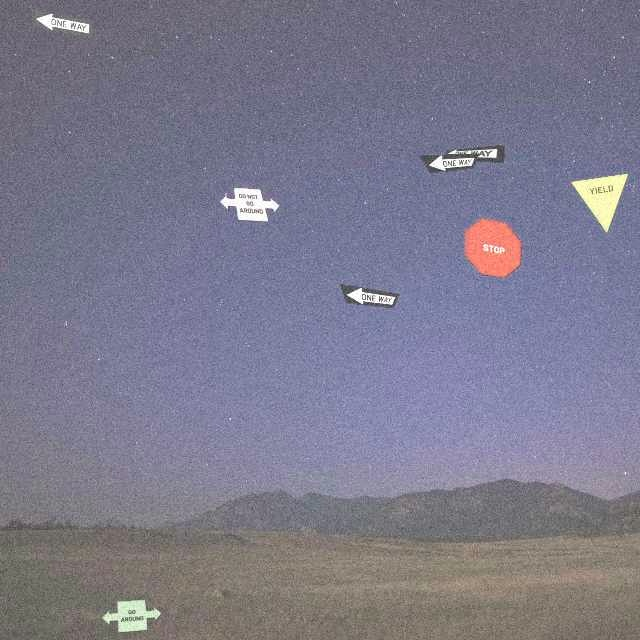DO_NOT_GO_AROUND: (219, 187, 280, 222)
GO_AROUND: (101, 599, 162, 633)
ONE_WAY_ left: (32, 9, 93, 38), (339, 283, 400, 308), (418, 153, 479, 173), (444, 144, 505, 163)
STOP: (464, 217, 522, 278)
YIELD: (570, 173, 629, 234)
